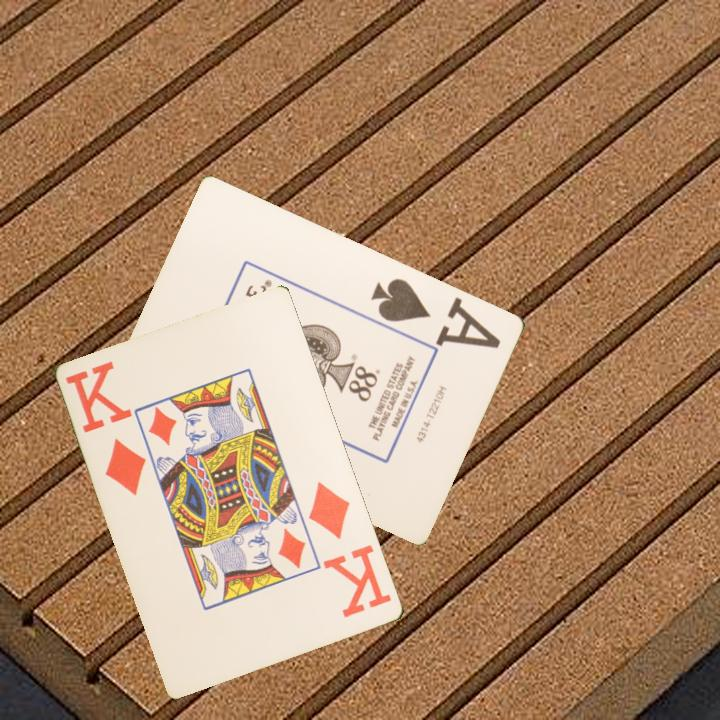As: (368, 274, 491, 343)
Kd: (305, 478, 395, 621), (62, 358, 150, 499)
